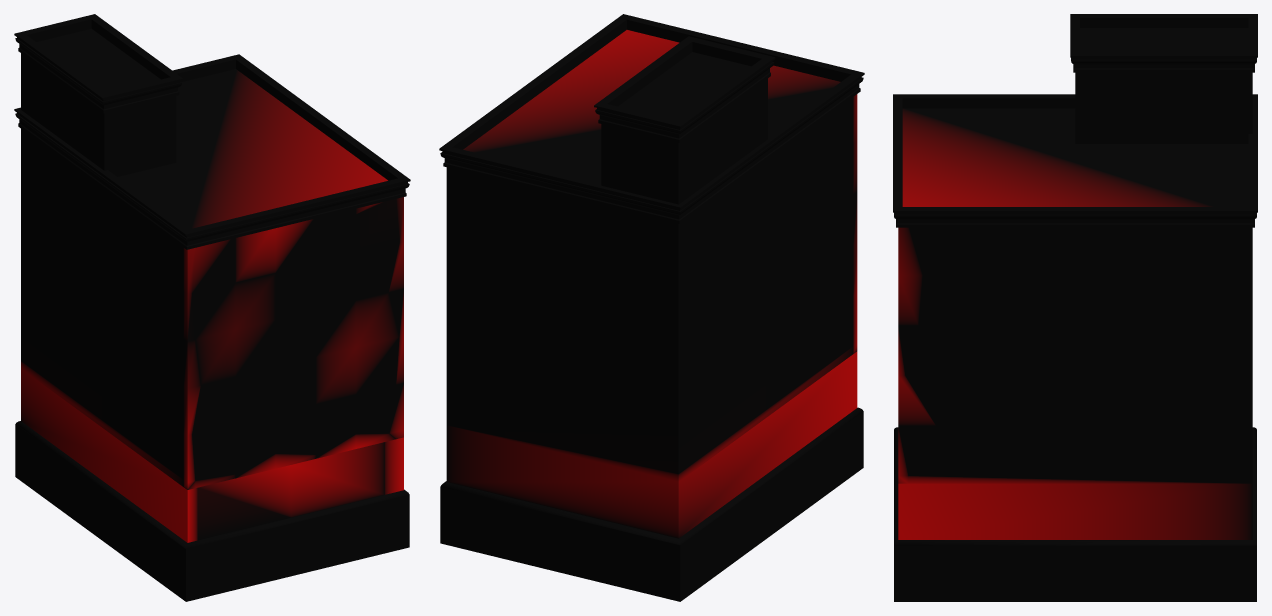
Rendered from House8.fbx.
3 renders of one model, left to right at view 1: azimuth 30°, elevation 25°; view 2: azimuth 150°, elevation 25°; view 3: azimuth 270°, elevation 25°, orthographic. The views are drawn at different scales.
Parts seen in each view (by area): view 1: House8; view 2: House8; view 3: House8.
Part boxes in pixels (x1,y1,x2,y2): House8: [14, 14, 410, 601]; House8: [439, 14, 864, 601]; House8: [893, 14, 1257, 601].
Bounding box in the file's own units: 624 × 1175 × 824.
